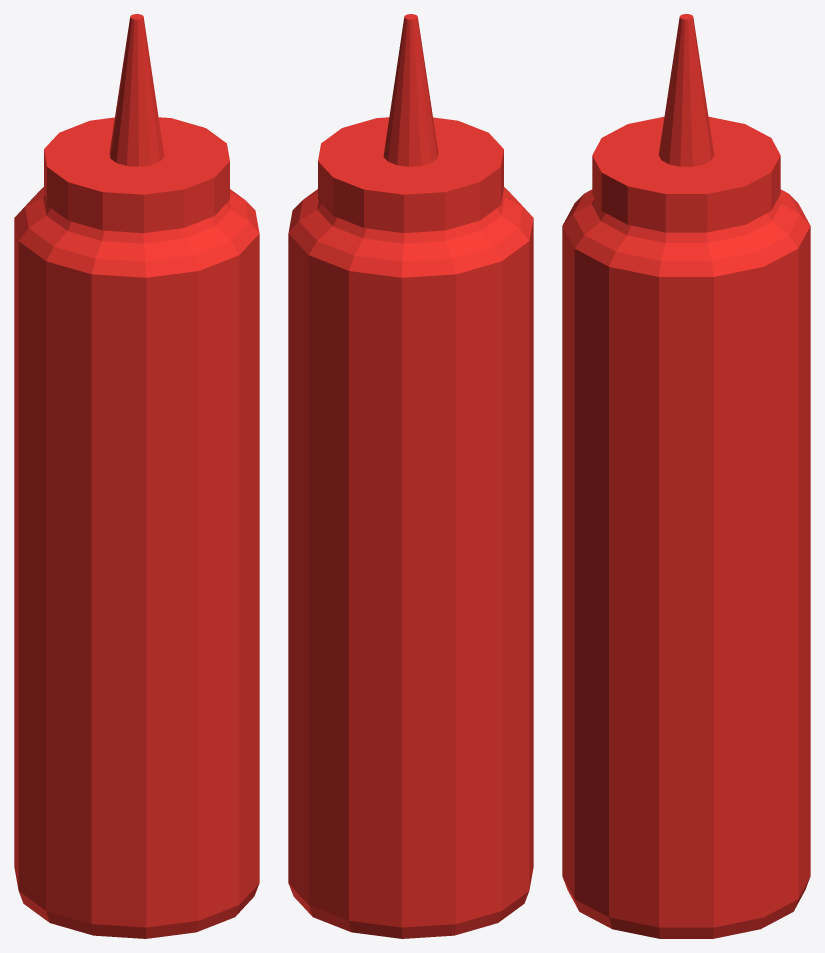
The model's file is Ketchup_01.fbx.
The picture shows the model from 3 angles, left to right: view 1: azimuth 30°, elevation 25°; view 2: azimuth 150°, elevation 25°; view 3: azimuth 270°, elevation 25°; orthographic projection.
Visible parts, largest first — view 1: Ketchup_01; view 2: Ketchup_01; view 3: Ketchup_01.
Boxes of the visible parts, x1,y1,x2,y2 form: Ketchup_01: [14, 14, 259, 938]; Ketchup_01: [288, 14, 533, 938]; Ketchup_01: [562, 14, 810, 938].
Size of the model in its own units: 9.44 by 37.6 by 9.69.
